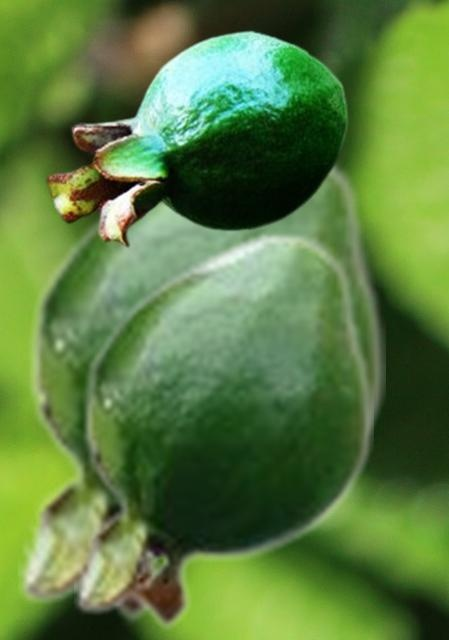guava: (18, 153, 384, 624), (74, 229, 372, 631), (45, 29, 348, 247)
